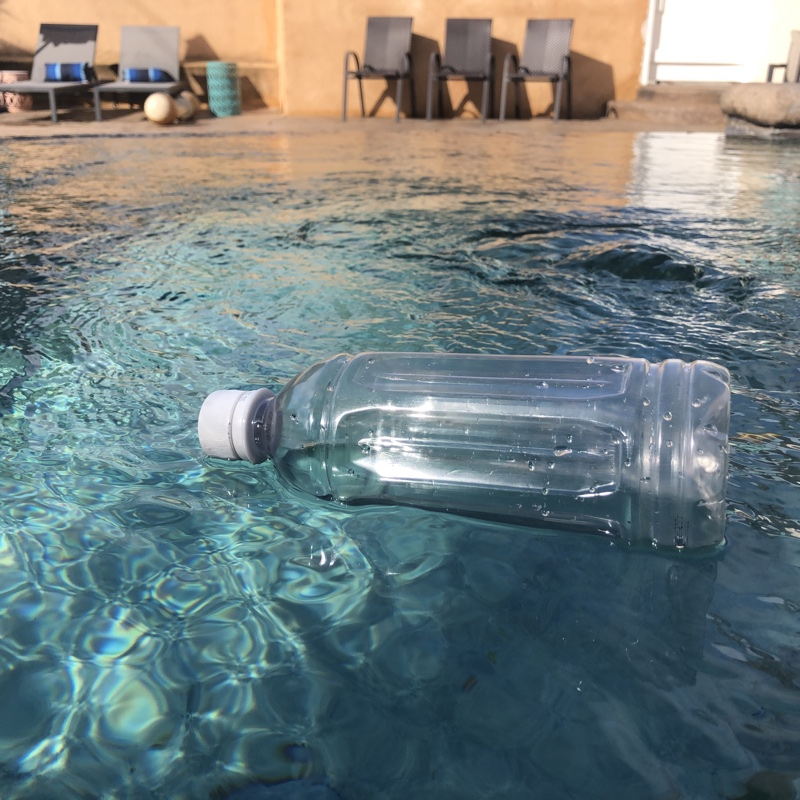Plastic Bottle: (190, 345, 735, 565)
